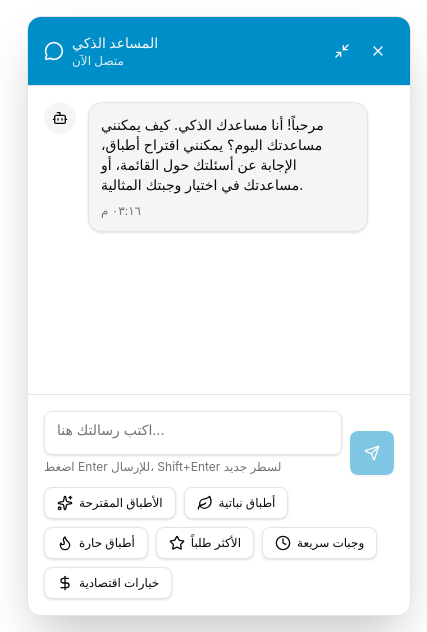
it: ChatWidget Conversation Context › Message Display › should display user and assistant messages correctly
The width and height of the screenshot is (427, 632).
Expected: the text "مرحباً" is shown, top-left (101, 116), bottom-right (328, 193)
Type "سؤال اختبار" into the text box with placeholder "اكتب رسالتك هنا..." at (193, 433), box top-left (44, 411), bottom-right (342, 455)
Then press Enter
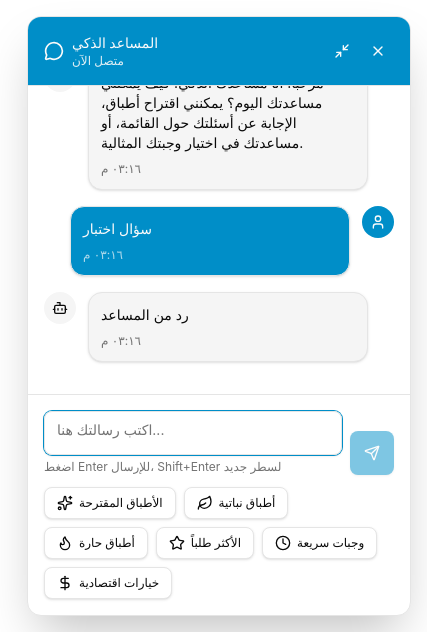
Result: the text "سؤال اختبار" is shown at top-left (83, 220), bottom-right (152, 237)
Result: the text "رد من المساعد" is shown at top-left (101, 306), bottom-right (189, 323)
